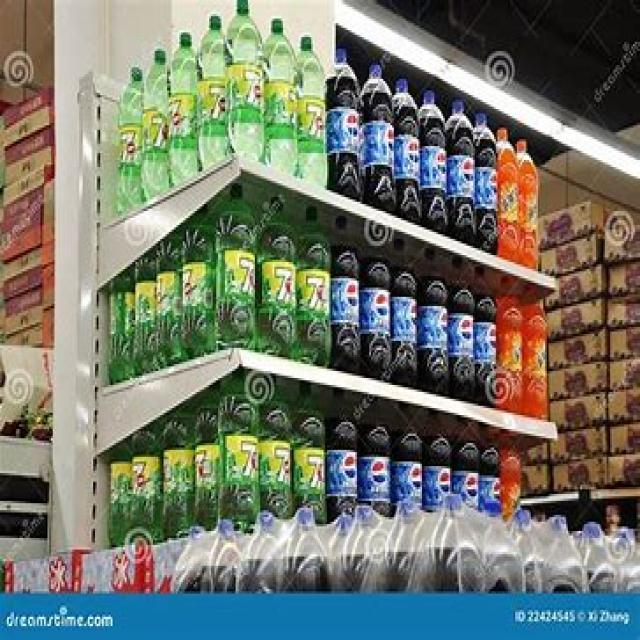7up: (262, 209, 302, 357), (222, 202, 262, 344), (234, 0, 266, 164), (198, 16, 232, 162), (268, 20, 302, 164), (228, 387, 260, 536), (169, 28, 198, 180), (304, 213, 329, 351)
fanta: (496, 298, 526, 418), (524, 306, 552, 419), (518, 146, 542, 270)
pepsi: (329, 43, 369, 201), (362, 51, 400, 212), (390, 72, 420, 208), (422, 93, 451, 221), (455, 286, 480, 404), (336, 248, 361, 357), (480, 120, 500, 249), (368, 258, 394, 357), (394, 279, 418, 384)
